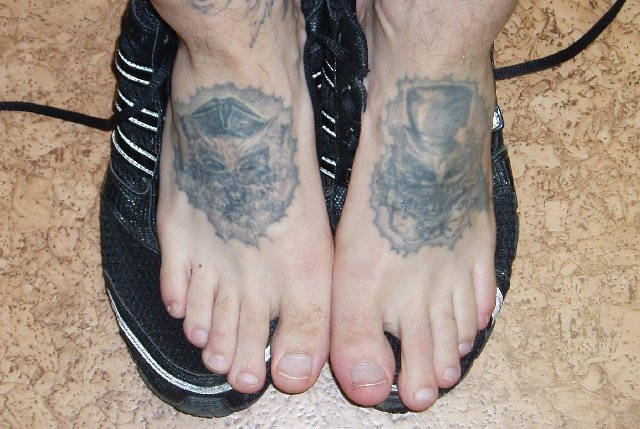tatu8_kot: (158, 78, 313, 257), (363, 70, 500, 252)
